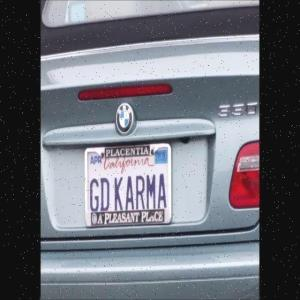Plate: (84, 136, 176, 235)
